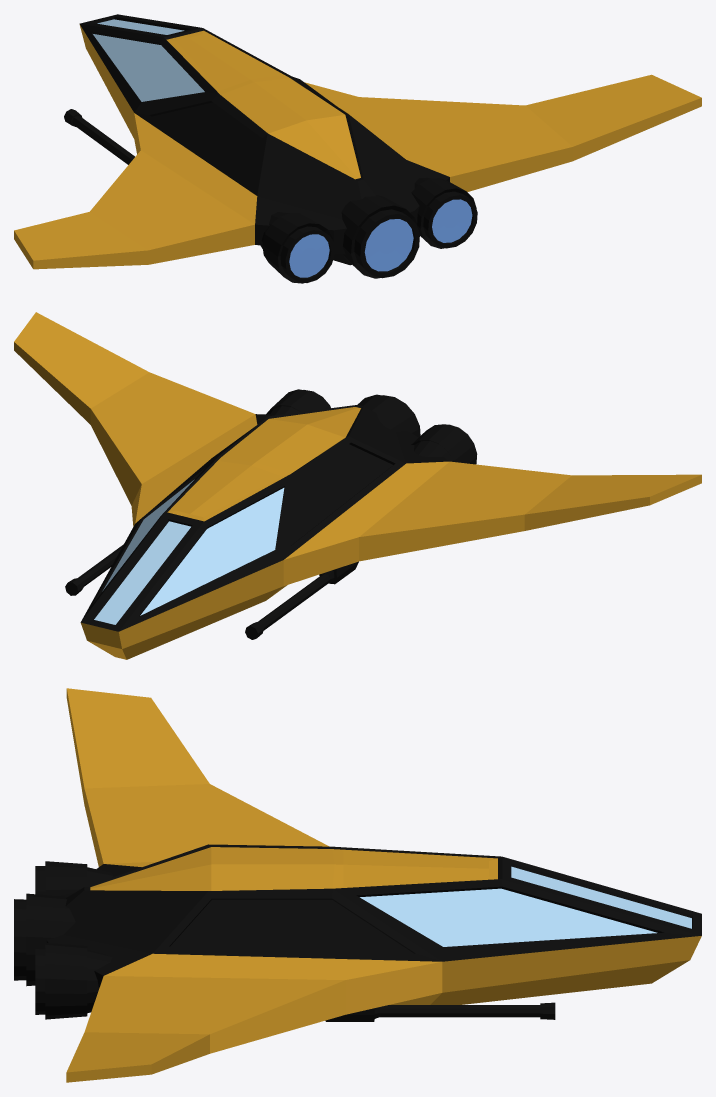
Rendered from tuomaanalus.gltf.
3 views of the same model, one above another, from view 1: azimuth 30°, elevation 25°; view 2: azimuth 150°, elevation 25°; view 3: azimuth 270°, elevation 25° (orthographic). The views are drawn at different scales.
Visible parts, largest first — view 1: Cylinder; view 2: Cylinder; view 3: Cylinder.
Boxes of the visible parts, left/top/right/bottom form: Cylinder: left=14, top=14, right=701, bottom=283; Cylinder: left=14, top=312, right=701, bottom=659; Cylinder: left=14, top=688, right=701, bottom=1082.
Bounding box in the file's own units: 0.7767 × 0.1178 × 0.5877.
